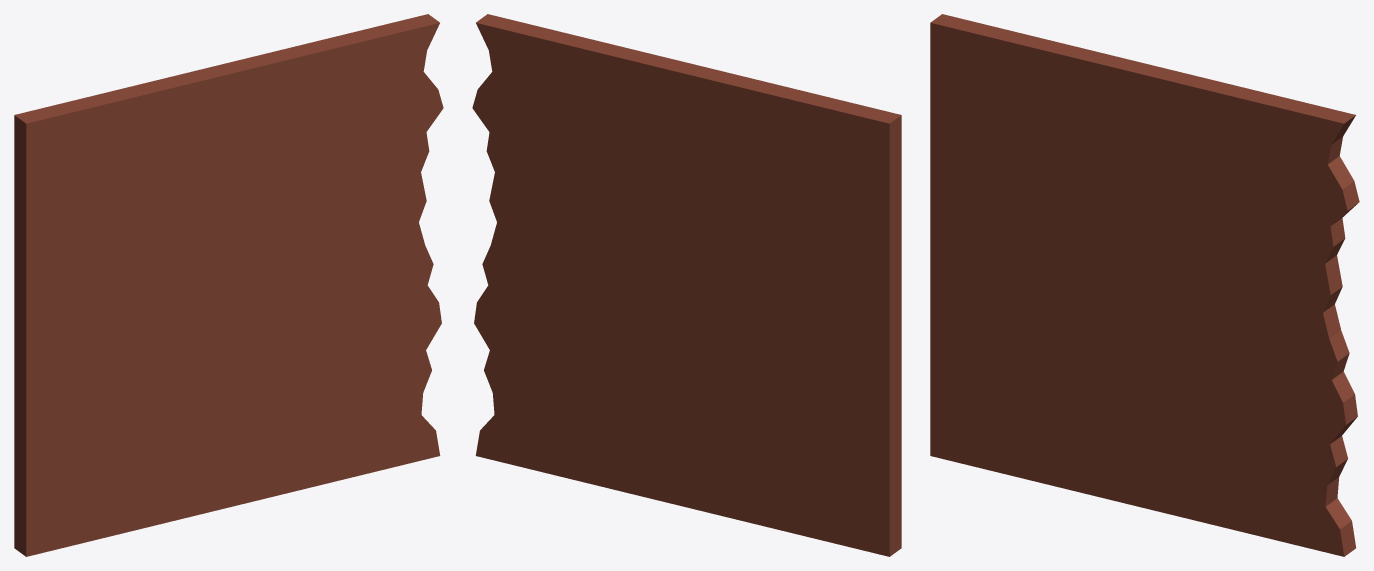
File: tile02.001.glb
3 renders of one model, left to right at view 1: azimuth 30°, elevation 25°; view 2: azimuth 150°, elevation 25°; view 3: azimuth 330°, elevation 25°, orthographic.
Parts seen in each view (by area): view 1: 02.001; view 2: 02.001; view 3: 02.001.
Part boxes in pixels (bbox=[...]): 02.001: bbox=[14, 14, 443, 556]; 02.001: bbox=[472, 14, 901, 556]; 02.001: bbox=[930, 14, 1359, 556].
Bounding box in the file's own units: 2.02 × 2 × 0.1.
Materials: 1 (1 with a texture image).
